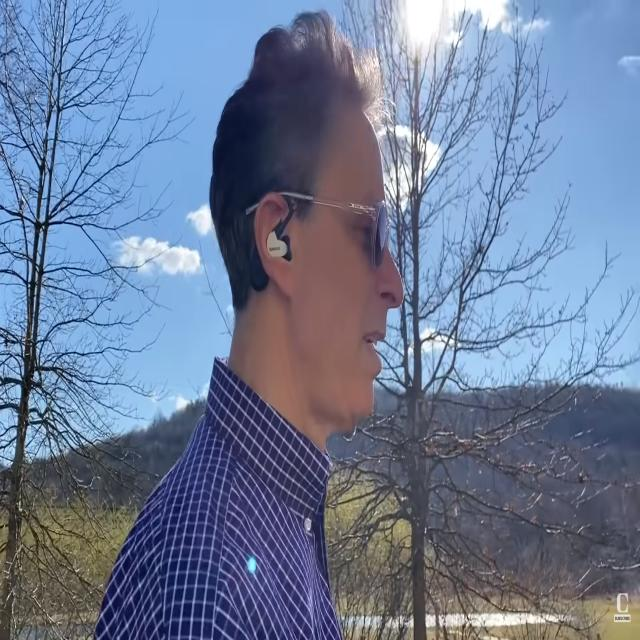airpods: (249, 191, 292, 292)
